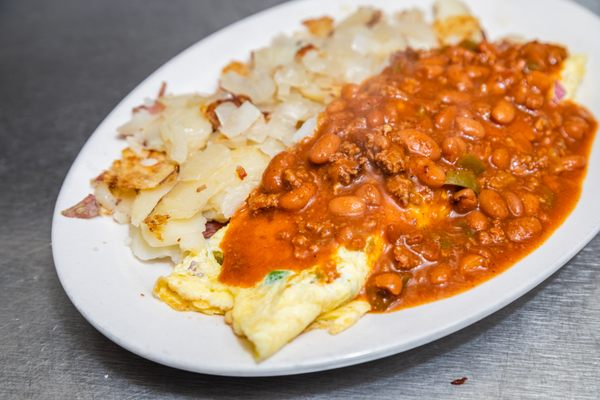curry: (1, 0, 580, 395)
sandwich: (63, 1, 599, 361)
